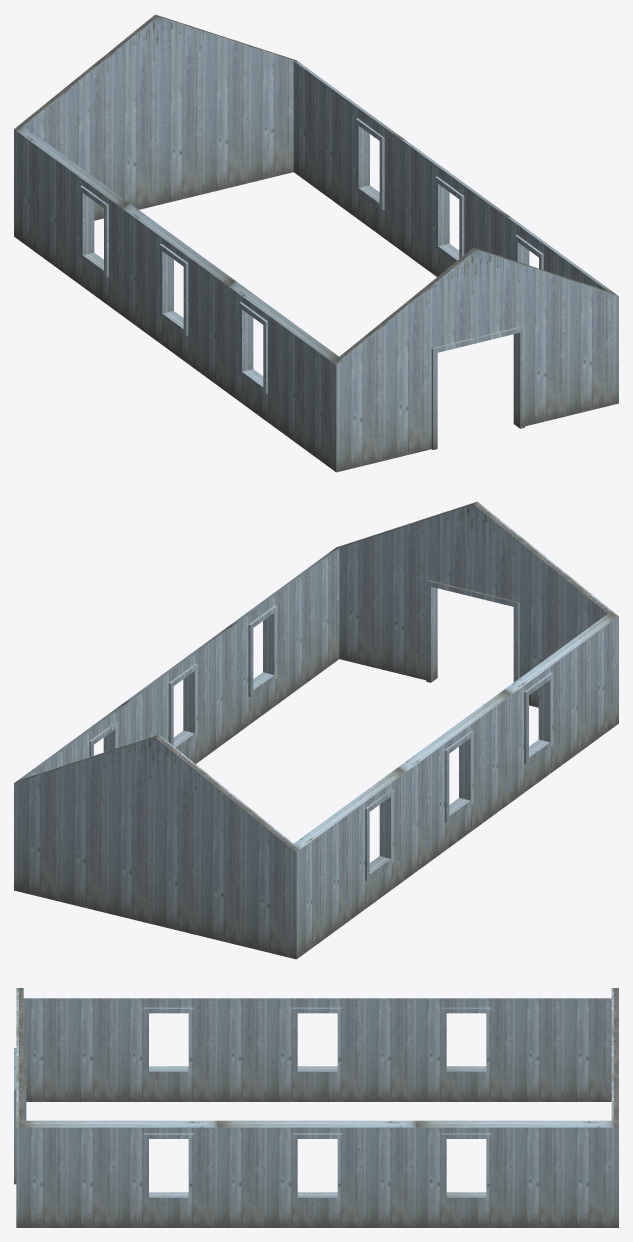
File: barrackwall.FBX
3 renders of one model, top to bottom at view 1: azimuth 30°, elevation 25°; view 2: azimuth 150°, elevation 25°; view 3: azimuth 270°, elevation 25°, orthographic. The views are drawn at different scales.
Parts seen in each view (by area): view 1: Barracks01-Walls; view 2: Barracks01-Walls; view 3: Barracks01-Walls.
Boxes of the visible parts, x1=… form: Barracks01-Walls: x1=14, y1=14, x2=618, y2=472; Barracks01-Walls: x1=14, y1=501, x2=618, y2=959; Barracks01-Walls: x1=14, y1=988, x2=618, y2=1227.
Size of the model in its own units: 246 by 154 by 480.
